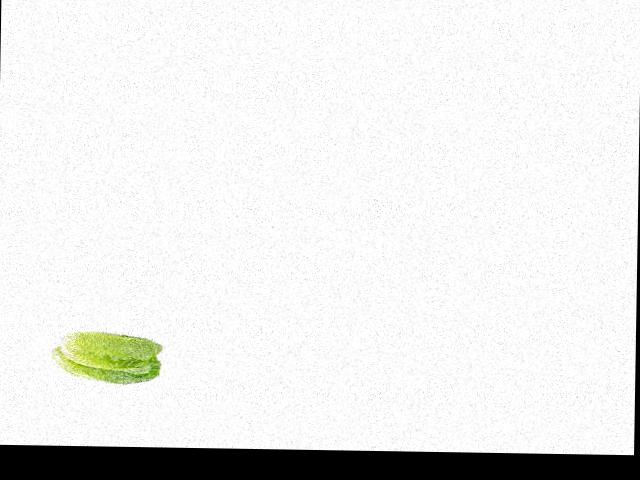lettuce: (51, 324, 164, 384)
